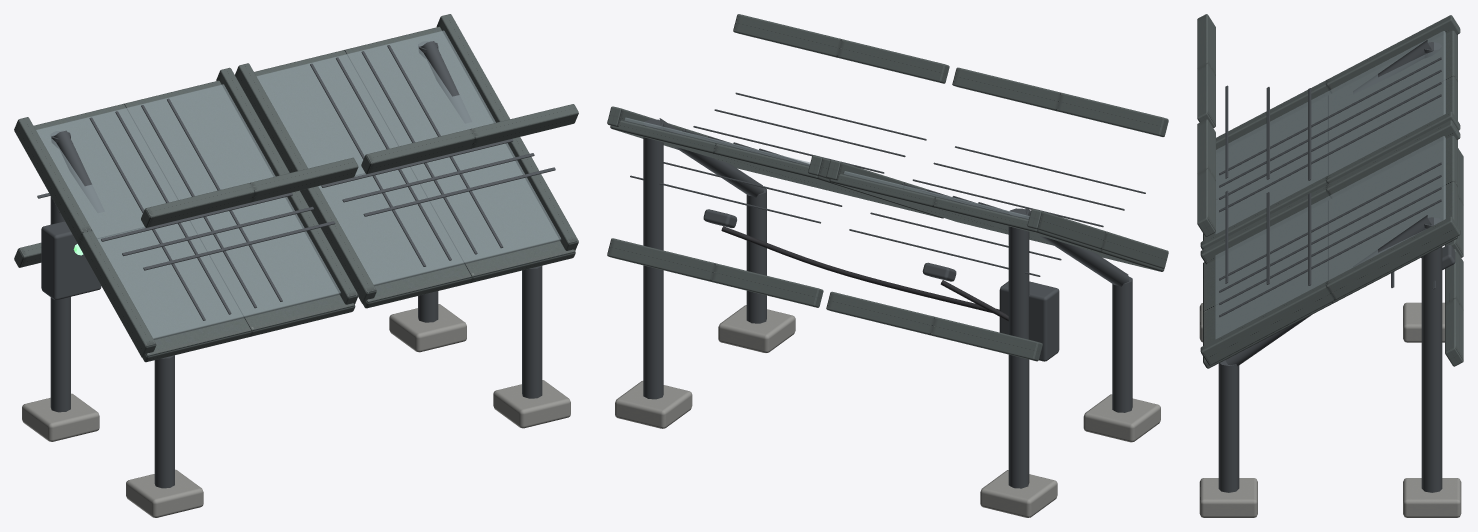
File: fps-survival-forest-outpost-solar-array-d333e53f__32629.glb
3 renders of one model, left to right at view 1: azimuth 30°, elevation 25°; view 2: azimuth 150°, elevation 25°; view 3: azimuth 270°, elevation 25°, orthographic. The views are drawn at different scales.
Visible parts, largest first — view 1: solar-array; view 2: solar-array; view 3: solar-array.
Part boxes in pixels (<box>): solar-array: <box>14,14,578,517</box>; solar-array: <box>607,14,1168,517</box>; solar-array: <box>1197,14,1463,517</box>.
Bounding box in the file's own units: 2.36 × 1.62 × 1.29.
6 materials, 2 textured.
